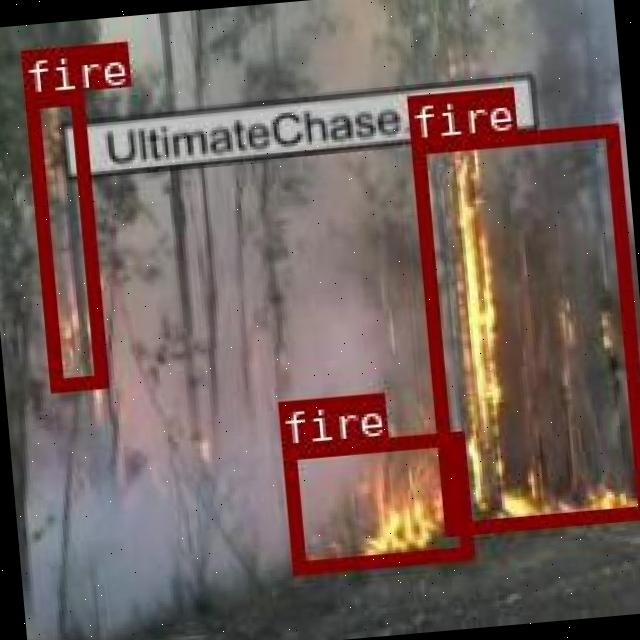fire: (410, 121, 640, 532), (280, 429, 470, 572), (23, 91, 104, 391)
